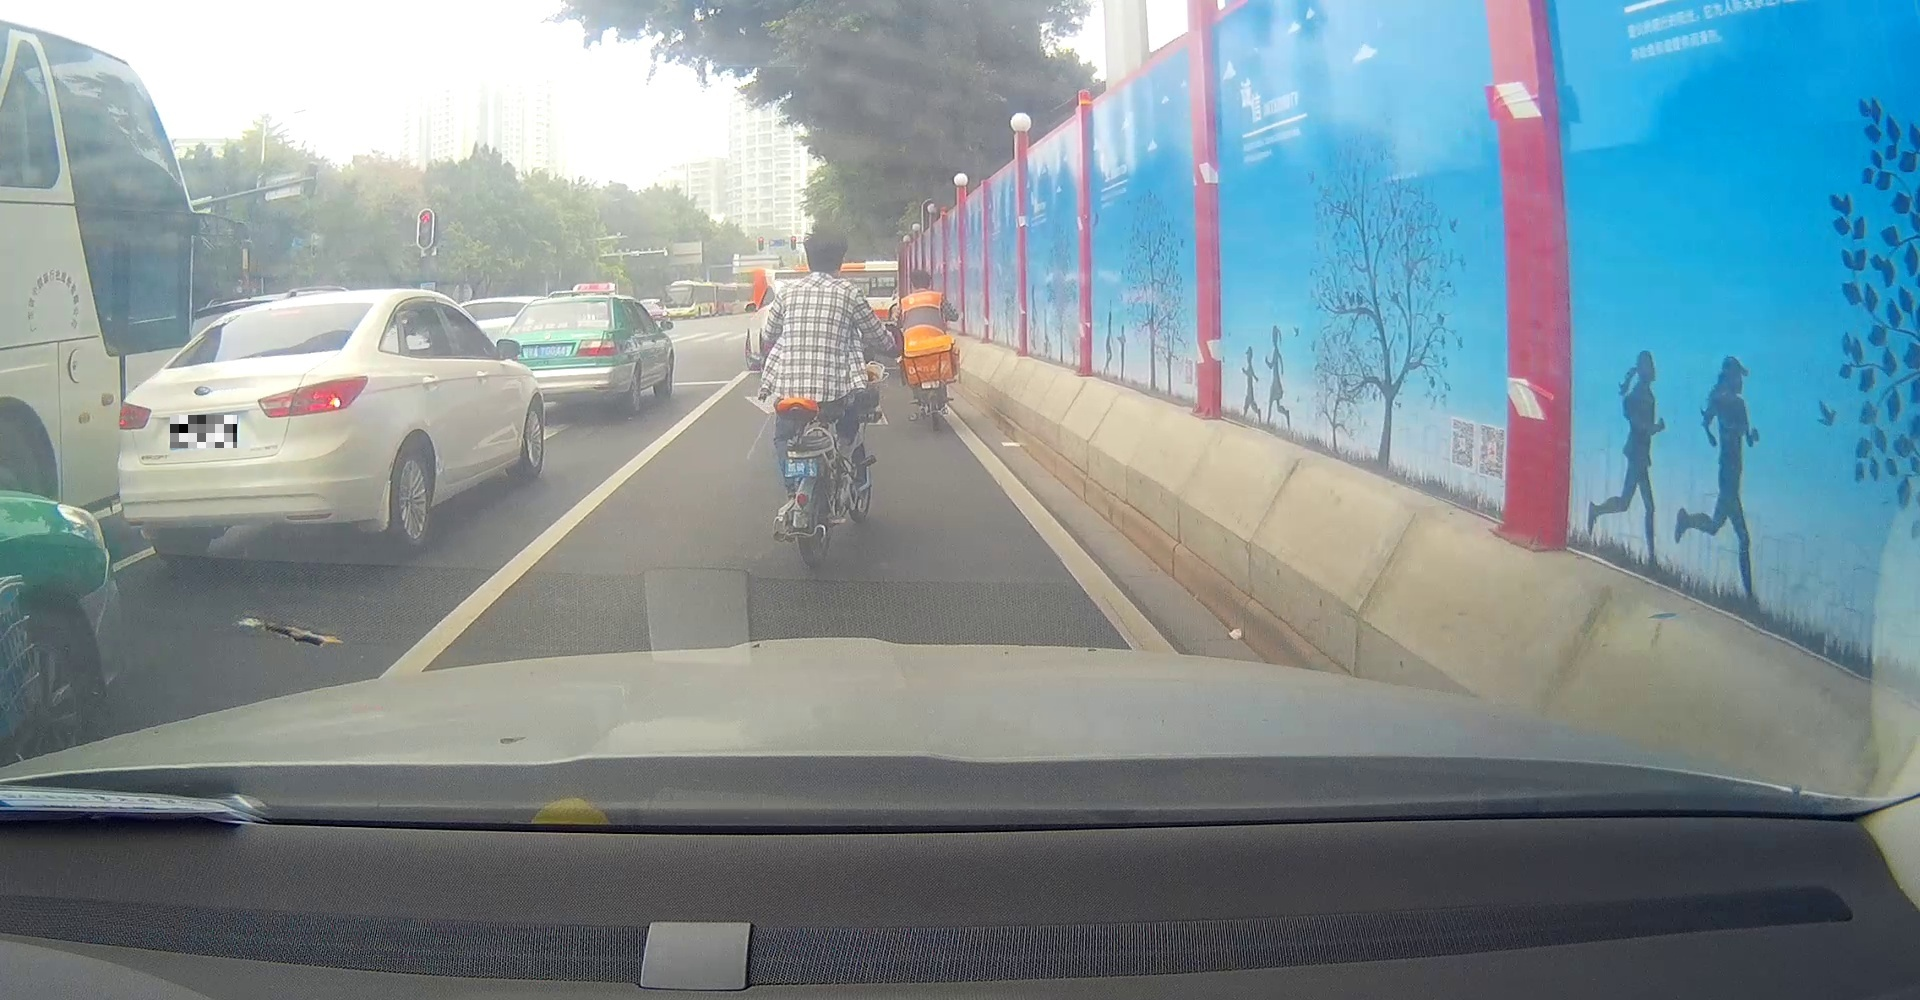L_light: (118, 398, 151, 430)
R_light: (257, 374, 368, 418)
T_light: (268, 308, 298, 316)
day-brake: (116, 294, 378, 567)
plate_1: (170, 415, 237, 448)
